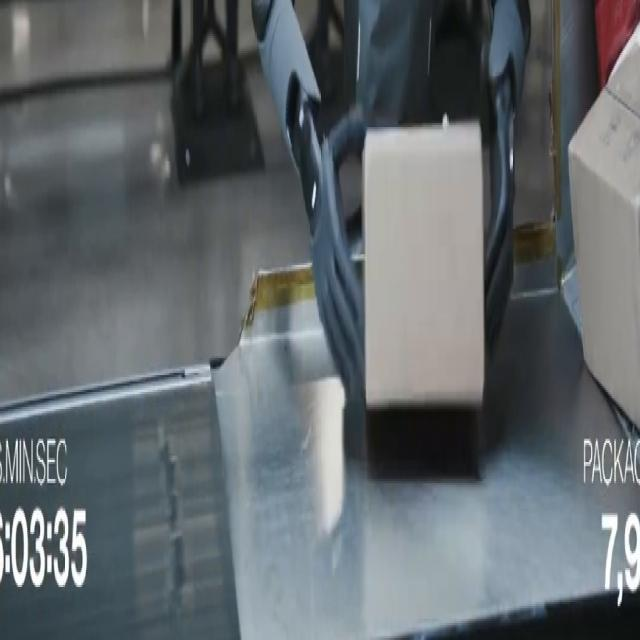package: (363, 123, 485, 409), (569, 49, 639, 423), (595, 0, 639, 89), (613, 24, 639, 72)
